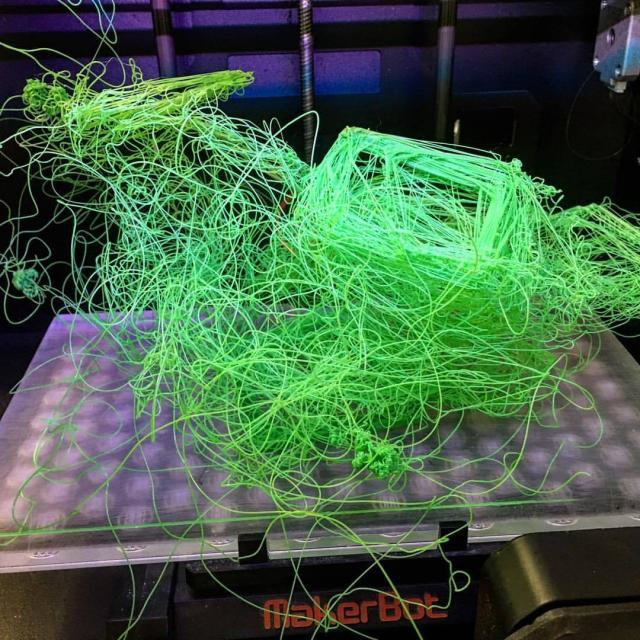Spaghetti: (263, 198, 636, 387), (25, 62, 277, 336)
